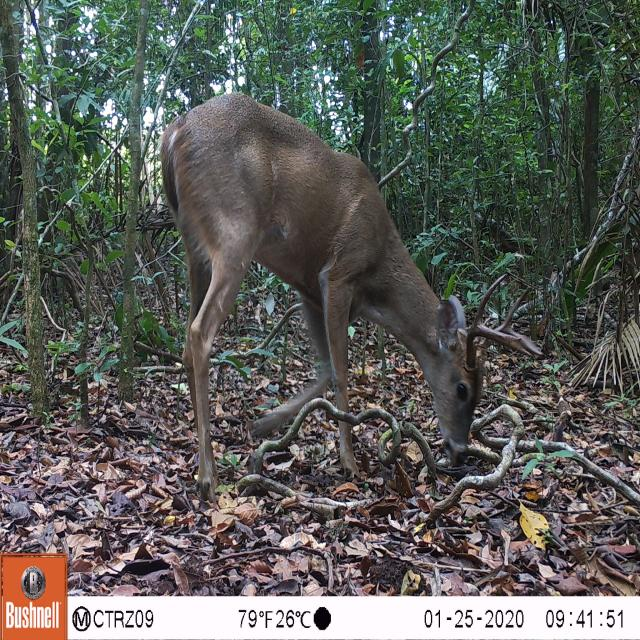White-tailed Deer: (156, 78, 554, 540)
